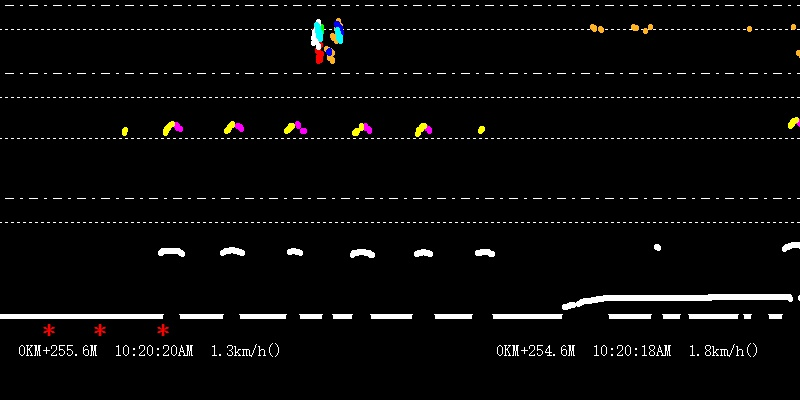J: (310, 4, 344, 67)
star: (91, 319, 108, 337), (155, 320, 171, 339), (40, 322, 57, 336)
y_p: (148, 113, 504, 272)
